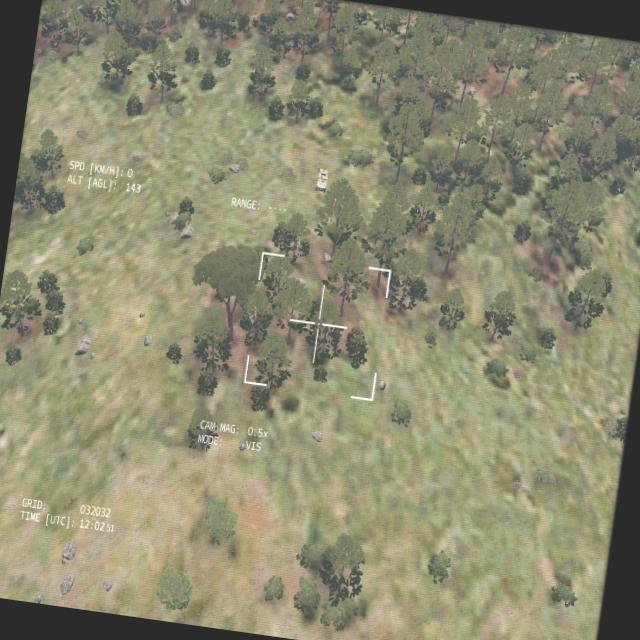apc: (314, 167, 329, 194)
